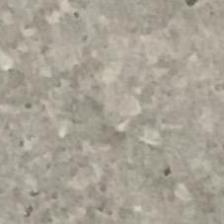Non_Crack: (25, 10, 198, 166)
